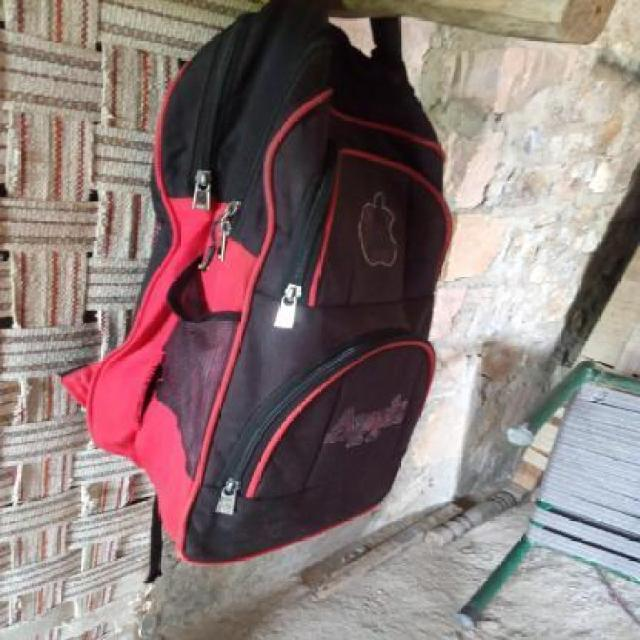backpack: (55, 0, 461, 572)
